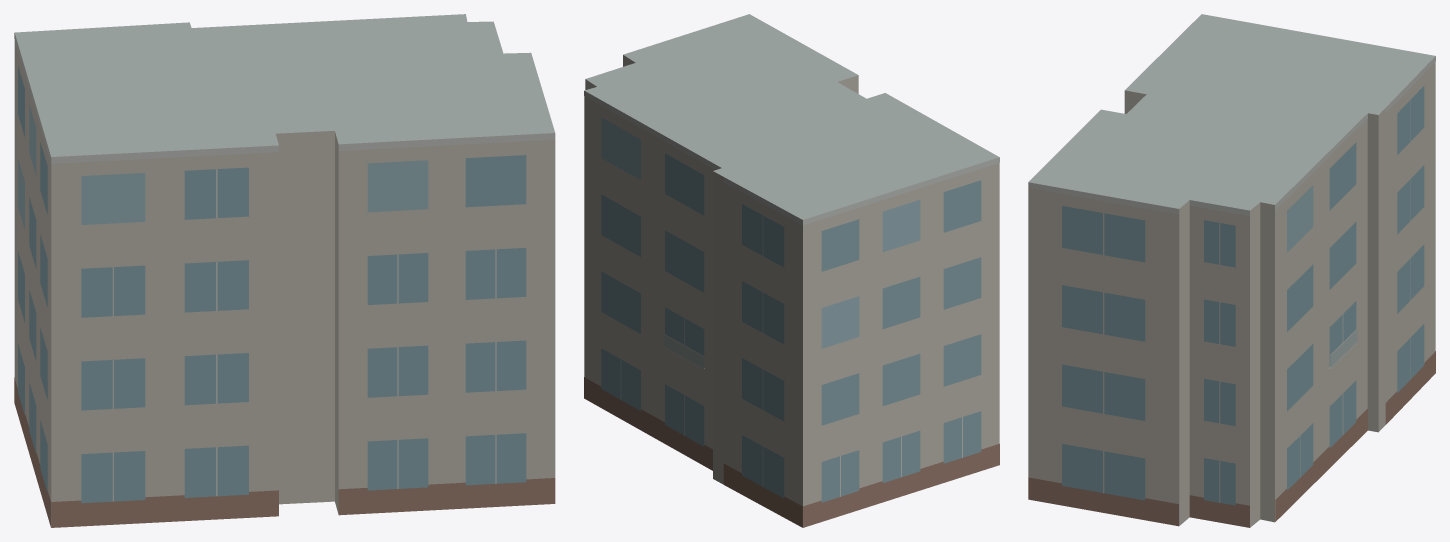
The model's file is survey-upis-32921083.glb.
3 views of the same model, side by side, from view 1: azimuth 30°, elevation 25°; view 2: azimuth 150°, elevation 25°; view 3: azimuth 270°, elevation 25° (orthographic). The views are drawn at different scales.
Parts seen in each view (by area): view 1: survey-upis-32921083.tmp; view 2: survey-upis-32921083.tmp; view 3: survey-upis-32921083.tmp.
Boxes of the visible parts, x1=… form: survey-upis-32921083.tmp: x1=14, y1=14, x2=555, y2=527; survey-upis-32921083.tmp: x1=584, y1=14, x2=999, y2=527; survey-upis-32921083.tmp: x1=1028, y1=14, x2=1435, y2=527.
Size of the model in its own units: 18.12 by 13.63 by 15.88.
